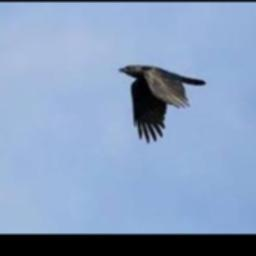Crow: (118, 65, 206, 143)
